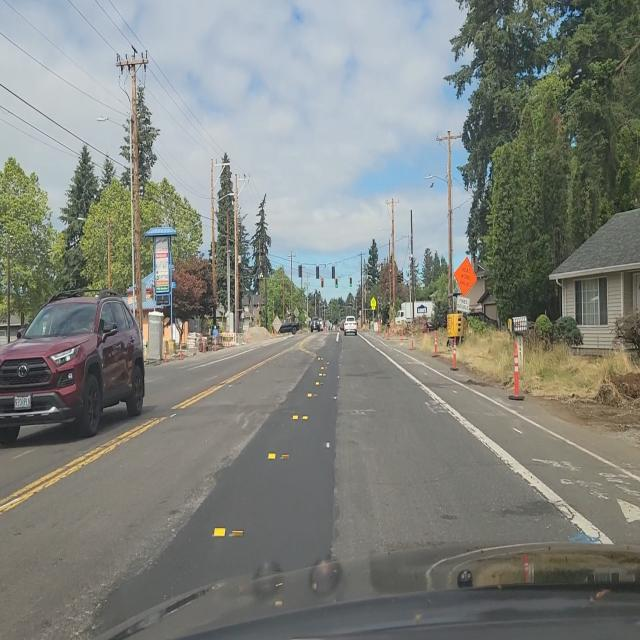car: (1, 289, 149, 445), (343, 316, 358, 336), (310, 318, 322, 332), (340, 322, 344, 331)
crosswalk-sign: (371, 297, 376, 309)
delineator: (506, 333, 523, 401), (449, 339, 458, 372), (433, 332, 438, 356), (410, 328, 414, 350), (164, 344, 168, 362), (400, 326, 404, 342), (387, 324, 391, 339), (393, 326, 397, 336), (378, 322, 381, 334), (264, 329, 268, 338), (180, 344, 182, 359), (272, 328, 275, 338)
